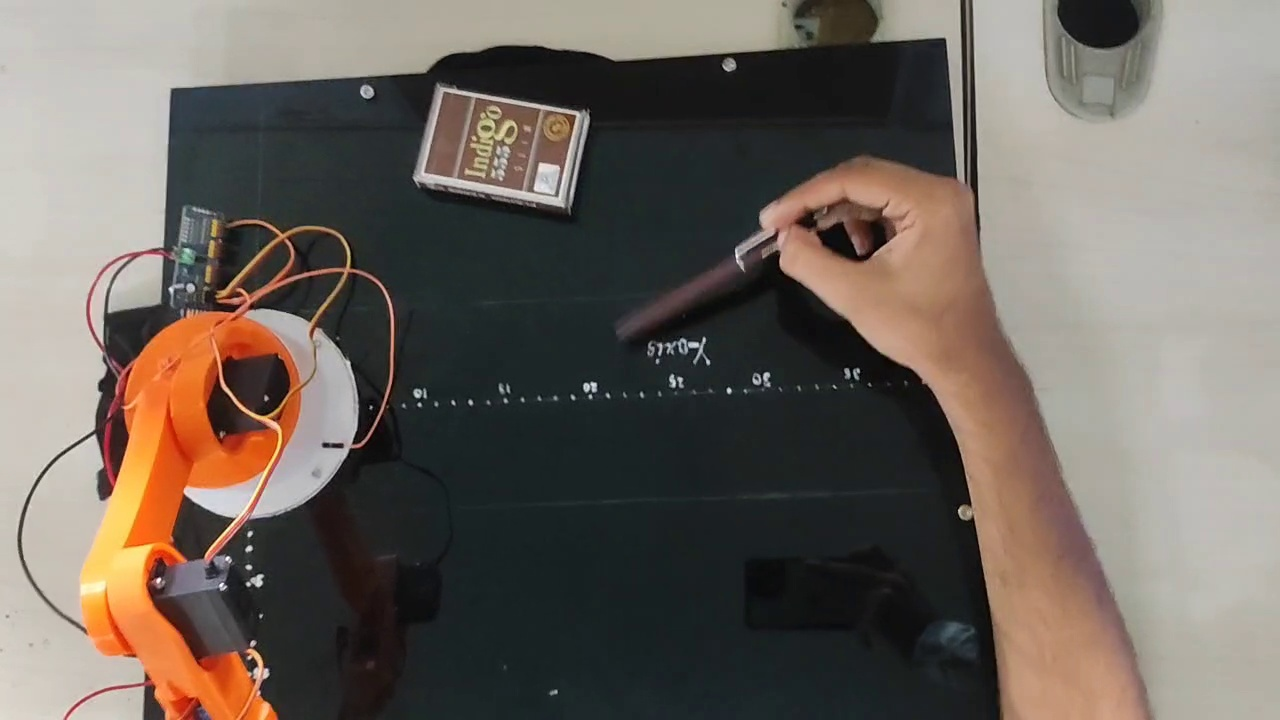BEX: (423, 90, 578, 199)
